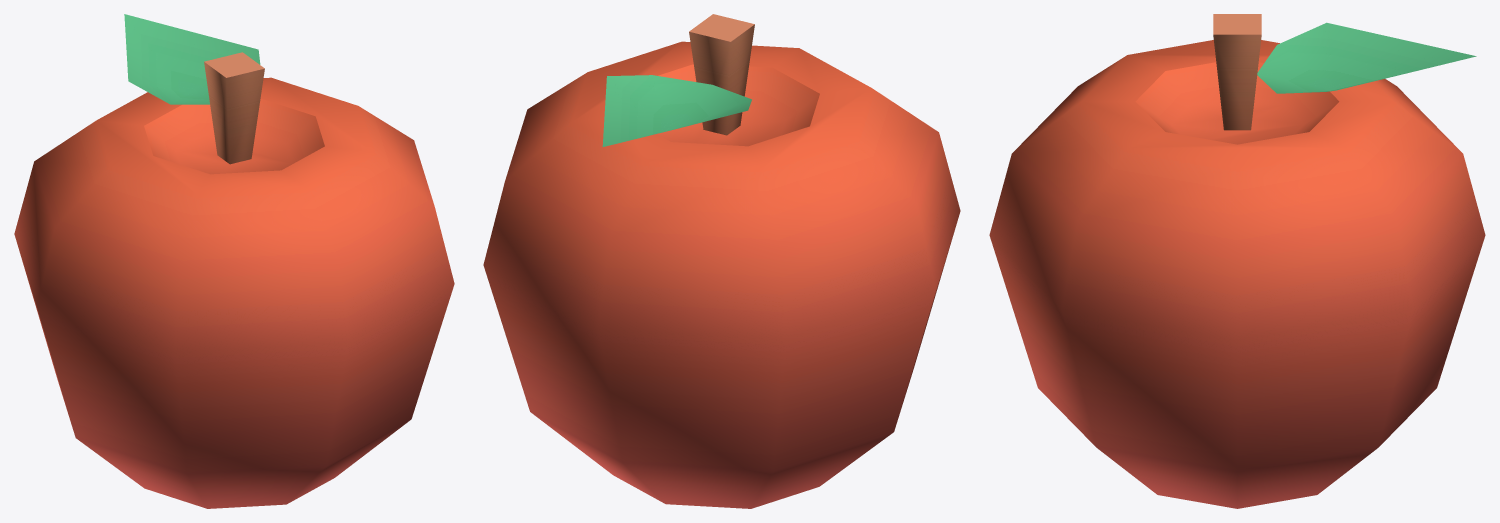
The model's file is apple.glb.
The picture shows the model from 3 angles, left to right: view 1: azimuth 30°, elevation 25°; view 2: azimuth 150°, elevation 25°; view 3: azimuth 270°, elevation 25°; orthographic projection. The views are drawn at different scales.
Visible parts, largest first — view 1: apple; view 2: apple; view 3: apple.
Part boxes in pixels (x1,y1,x2,y2): apple: [14, 14, 454, 508]; apple: [483, 14, 960, 508]; apple: [989, 14, 1485, 508].
Size of the model in its own units: 0.0926 by 0.09 by 0.0926.
Materials: 1 (1 with a texture image).
